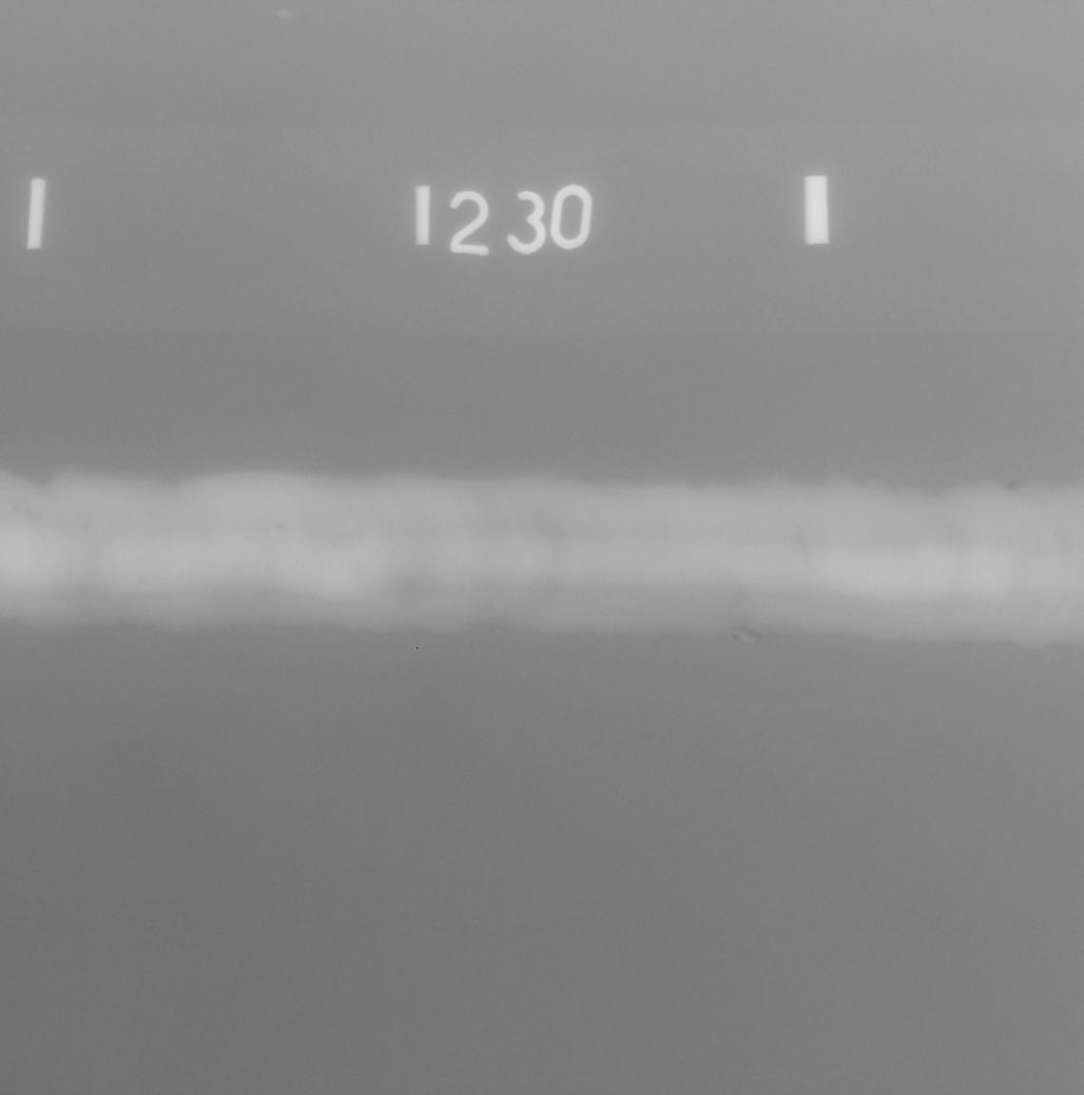Pore/Porosity: (276, 524, 285, 529), (12, 505, 20, 510), (1052, 532, 1058, 538), (316, 549, 323, 554), (27, 509, 32, 515), (139, 580, 144, 584), (106, 594, 111, 597), (332, 545, 336, 548), (300, 565, 305, 567), (955, 582, 958, 585), (897, 564, 900, 567), (663, 535, 666, 538)
Undercut: (731, 626, 762, 641), (1009, 481, 1017, 491)
